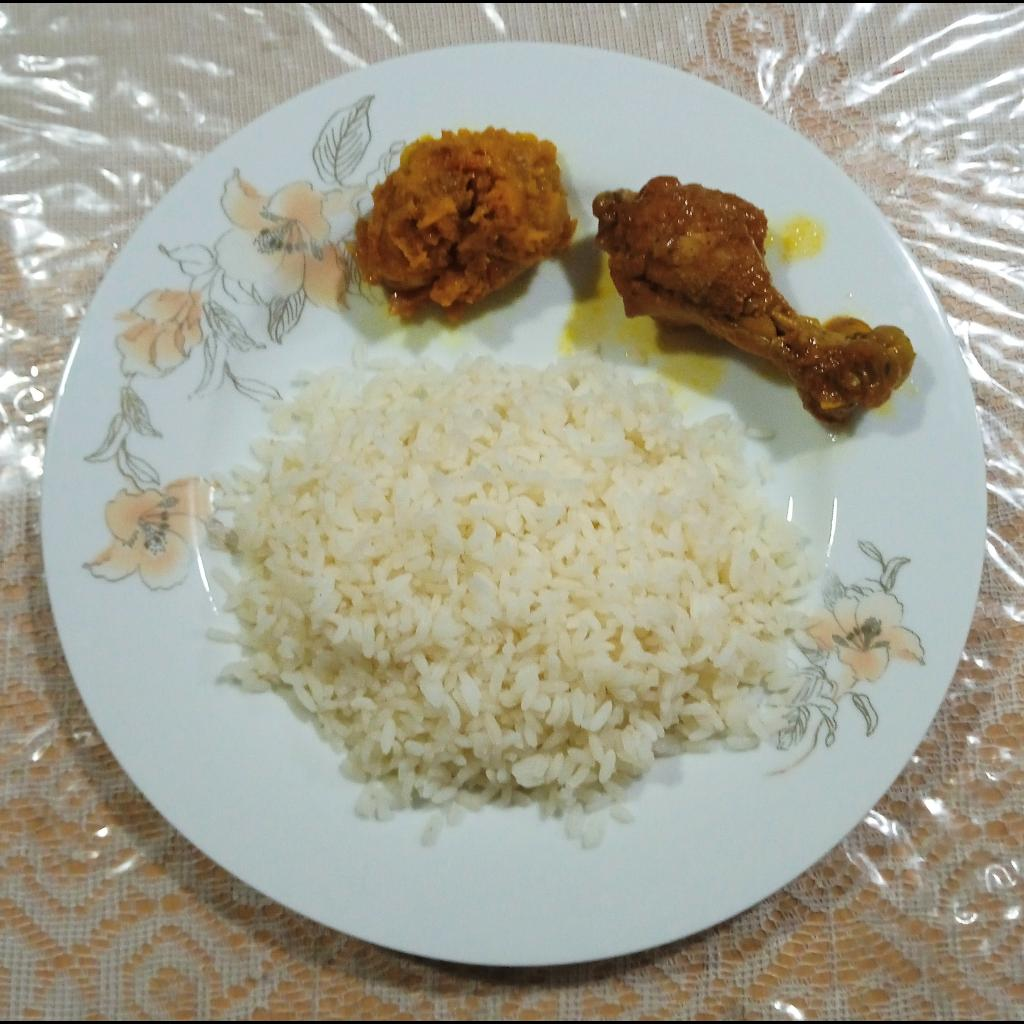chicken: (592, 173, 921, 429)
kumra-vaji: (349, 127, 586, 320)
rice: (203, 351, 826, 848)
